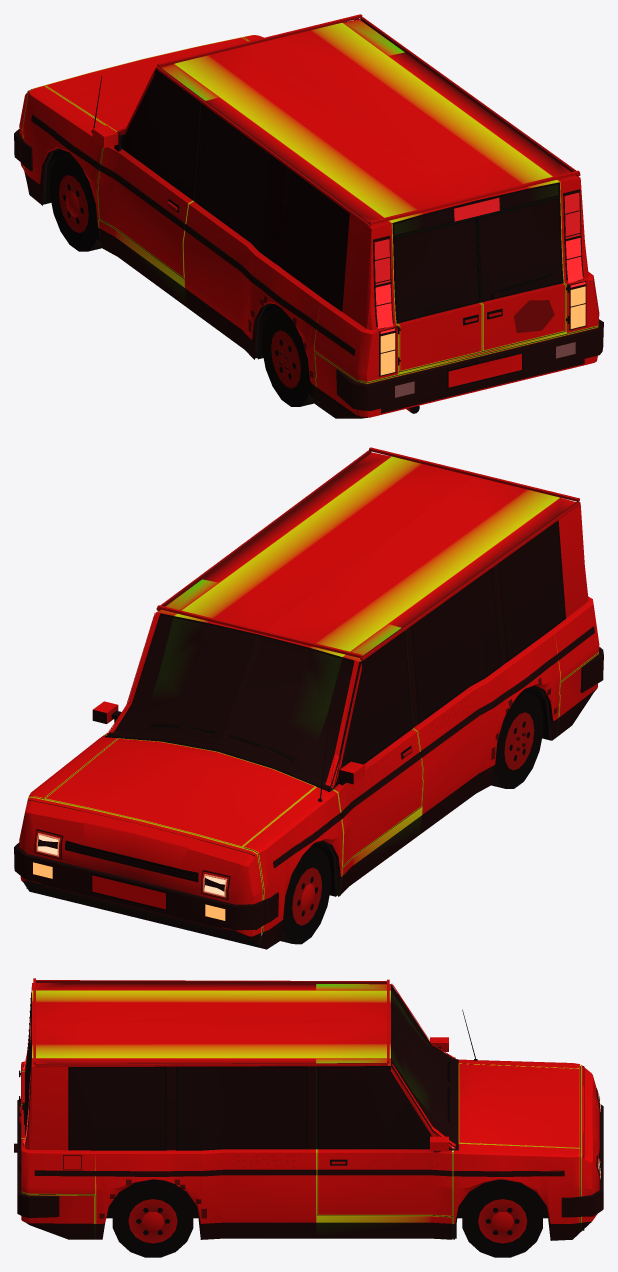
The model's file is body.glb.
3 views of the same model, one above another, from view 1: azimuth 30°, elevation 25°; view 2: azimuth 150°, elevation 25°; view 3: azimuth 270°, elevation 25° (orthographic). The views are drawn at different scales.
Parts seen in each view (by area): view 1: body, glass_quarter_l, glass_barn_l, glass_barn_r, bumper_r_band, door_l, glass_door_l, fender_fl, hood, roof_rails, barn_l, wheel_rl_mesh (+24 smaller); view 2: body, glass_windshield, hood, glass_quarter_l, bumper_f, glass_door_l, door_l, fender_fl, bumper_f_band, roof_rails, wheel_fl_mesh, wheel_rl_mesh (+13 smaller); view 3: body, glass_quarter_r, hood, door_r, glass_door_r, fender_fr, glass_windshield, wheel_rr_mesh, wheel_fr_mesh, roof_rails, bumper_f, bumper_r (+10 smaller).
Boxes of the visible parts, x1=… form: body: x1=99, y1=19, x2=599, y2=406; glass_quarter_l: x1=200, y1=109, x2=349, y2=311; glass_barn_l: x1=393, y1=217, x2=477, y2=323; glass_barn_r: x1=476, y1=197, x2=561, y2=302; bumper_r_band: x1=336, y1=319, x2=603, y2=413; door_l: x1=98, y1=145, x2=193, y2=277; glass_door_l: x1=121, y1=70, x2=200, y2=200; fender_fl: x1=22, y1=85, x2=105, y2=247; hood: x1=44, y1=37, x2=248, y2=131; roof_rails: x1=156, y1=14, x2=580, y2=227; barn_l: x1=397, y1=303, x2=482, y2=371; wheel_rl_mesh: x1=262, y1=309, x2=318, y2=406; body: x1=157, y1=452, x2=599, y2=895; glass_windshield: x1=108, y1=615, x2=359, y2=788; hood: x1=45, y1=738, x2=315, y2=847; glass_quarter_l: x1=411, y1=522, x2=564, y2=723; bumper_f: x1=19, y1=797, x2=263, y2=944; glass_door_l: x1=331, y1=632, x2=411, y2=789; door_l: x1=333, y1=729, x2=422, y2=866; fender_fl: x1=243, y1=787, x2=343, y2=949; bumper_f_band: x1=14, y1=842, x2=278, y2=930; roof_rails: x1=156, y1=447, x2=580, y2=660; wheel_fl_mesh: x1=261, y1=846, x2=331, y2=944; wheel_rl_mesh: x1=491, y1=691, x2=543, y2=788; body: x1=21, y1=983, x2=453, y2=1239; glass_quarter_r: x1=70, y1=1068, x2=305, y2=1149; hood: x1=458, y1=1063, x2=580, y2=1148; door_r: x1=317, y1=1149, x2=452, y2=1216; glass_door_r: x1=319, y1=1066, x2=452, y2=1149; fender_fr: x1=451, y1=1143, x2=580, y2=1240; glass_windshield: x1=391, y1=984, x2=458, y2=1149; wheel_rr_mesh: x1=112, y1=1179, x2=193, y2=1257; wheel_fr_mesh: x1=462, y1=1179, x2=542, y2=1257; roof_rails: x1=33, y1=978, x2=389, y2=1067; bumper_f: x1=579, y1=1065, x2=599, y2=1231; bumper_r: x1=21, y1=1192, x2=95, y2=1239.
Size of the model in its own units: 1.85 by 1.56 by 4.39.
